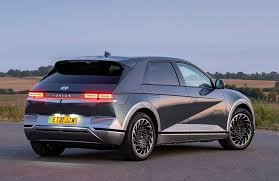Honda Ioniq: (20, 44, 266, 169)
